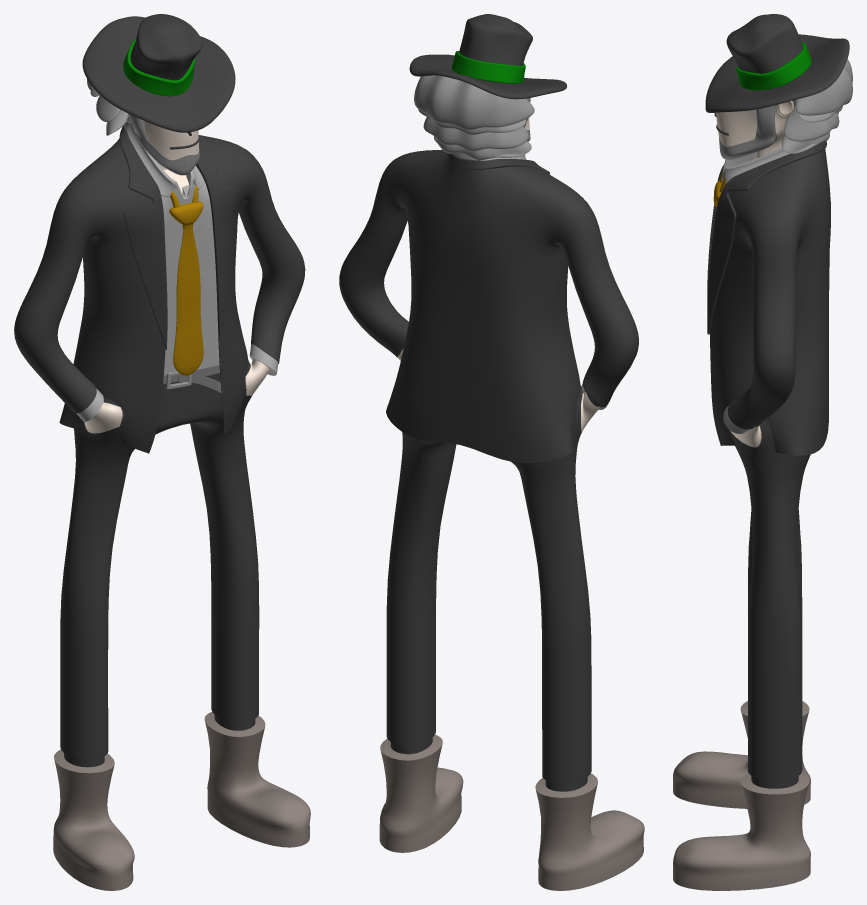
The picture shows the model from 3 angles, left to right: view 1: azimuth 30°, elevation 25°; view 2: azimuth 150°, elevation 25°; view 3: azimuth 270°, elevation 25°; orthographic projection. The views are drawn at different scales.
Parts seen in each view (by area): view 1: 030_jigen; view 2: 030_jigen; view 3: 030_jigen.
Part boxes in pixels (x1,y1,x2,y2): 030_jigen: (14,14,310,890); 030_jigen: (339,14,644,890); 030_jigen: (673,14,852,890).
Size of the model in its own units: 0.0745 by 0.2033 by 0.0406.
